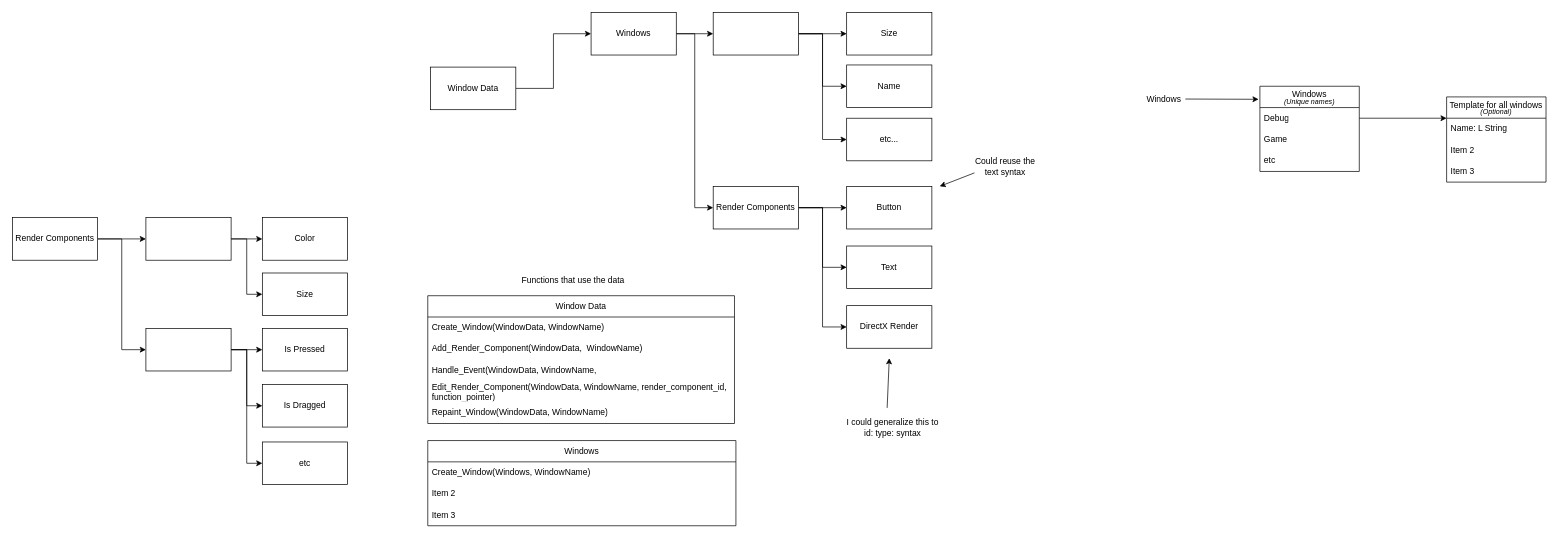
Image size: 1558x538. Some labels were removed from this diagram. The shapes that lost their labels are listed below. From the top down, each one's centre as x and y in pixels, then its label:
pixel 755 33: Settings
pixel 188 238: Paint
pixel 188 349: Events
